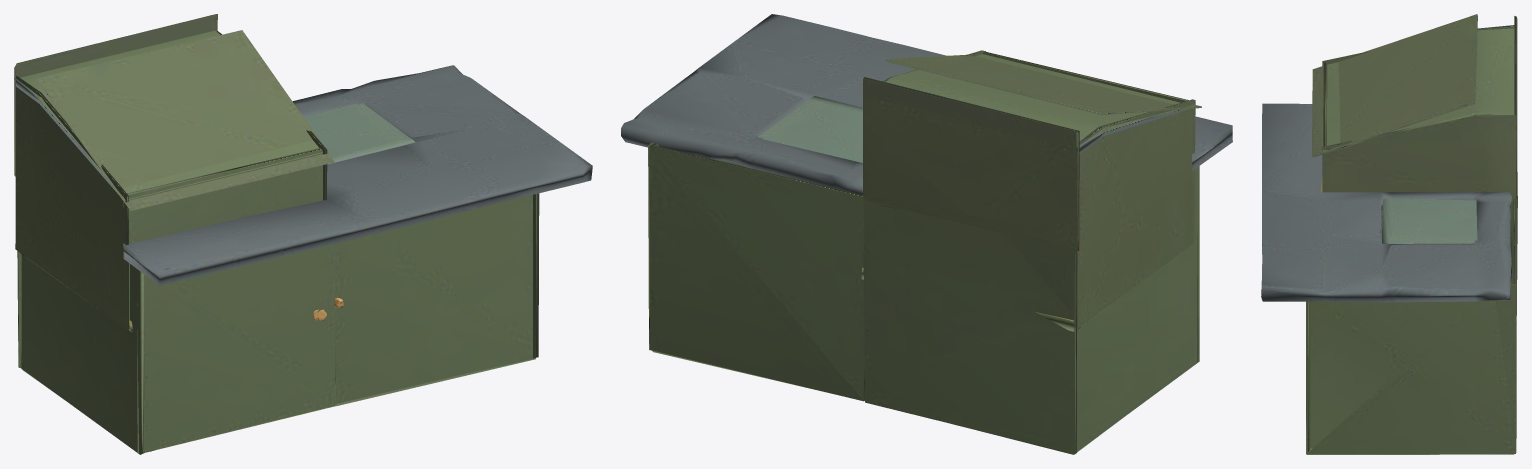
The model's file is sink.steel.glb.
3 views of the same model, side by side, from view 1: azimuth 30°, elevation 25°; view 2: azimuth 150°, elevation 25°; view 3: azimuth 270°, elevation 25° (orthographic). The views are drawn at different scales.
Parts seen in each view (by area): view 1: geometry_0; view 2: geometry_0; view 3: geometry_0.
Boxes of the visible parts, bbox=[...] form: geometry_0: bbox=[14, 14, 592, 454]; geometry_0: bbox=[621, 14, 1232, 454]; geometry_0: bbox=[1261, 14, 1517, 454].
Size of the model in its own units: 1 by 0.6797 by 0.5864.
1 material, 1 textured.
